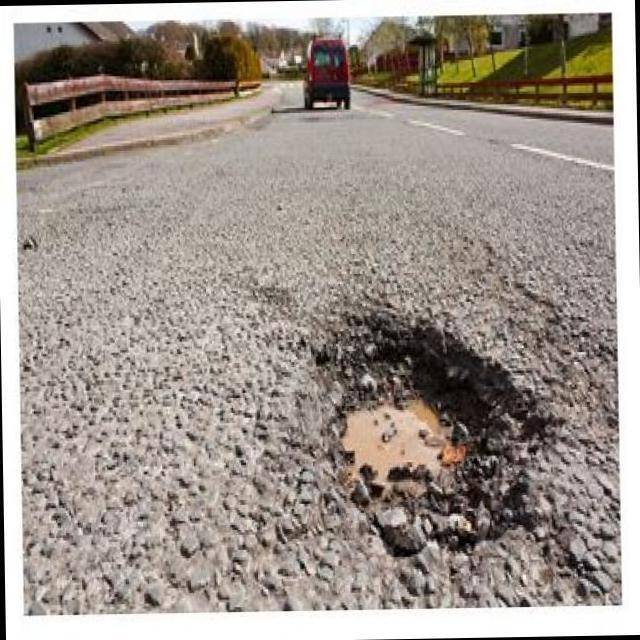Pothole: (339, 310, 530, 574)
